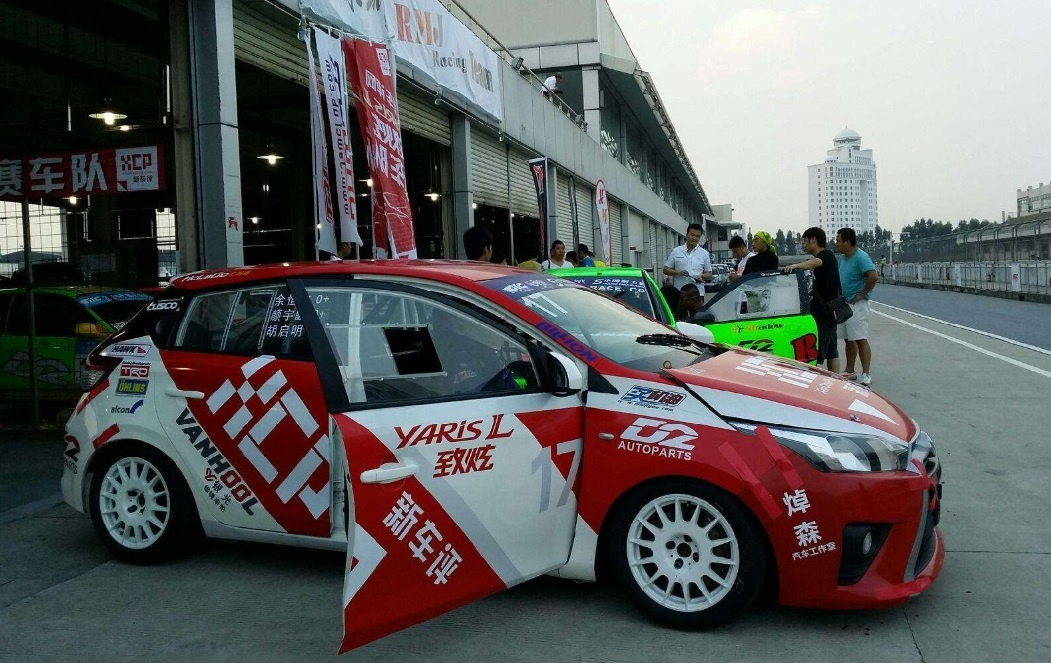racing car: (59, 256, 950, 649)
